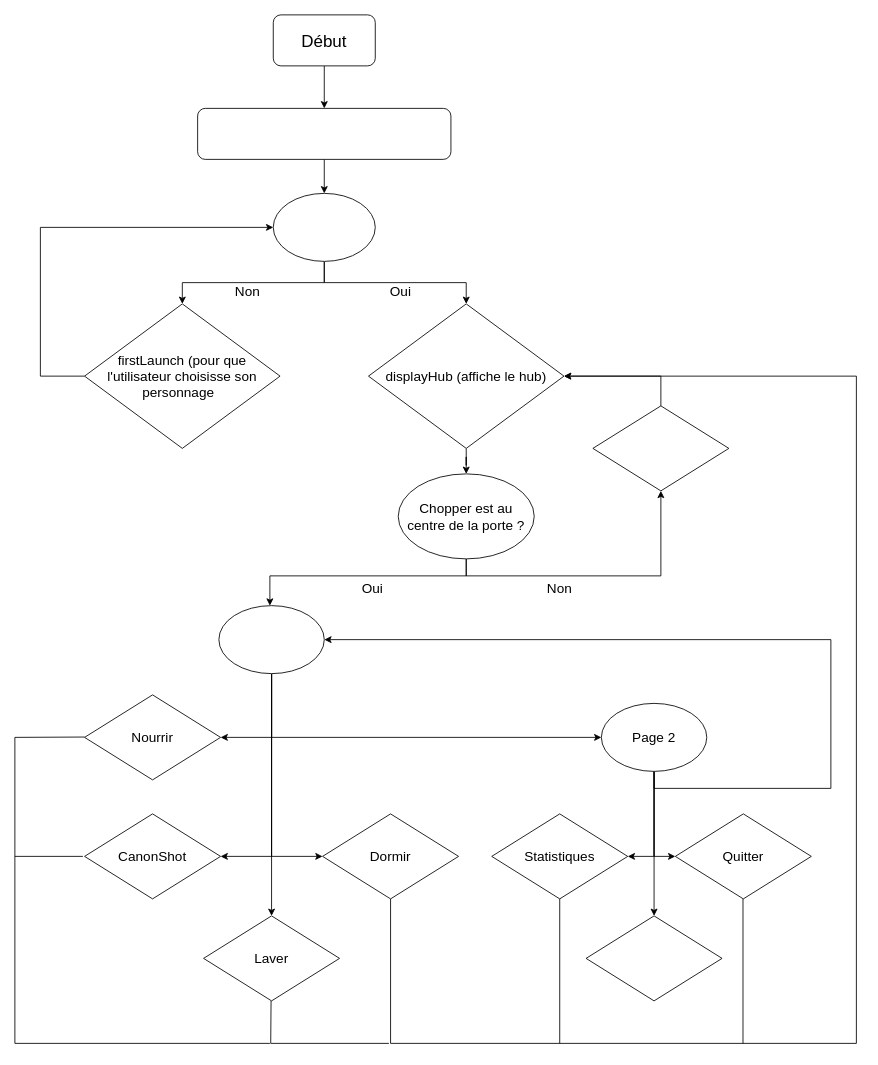
Some shapes in this 878 by 1065 pixel diagram are drawn without their labels. Each missing label, with the box of its shape:
Chopper sélectionné ?: (272, 193, 375, 261)
Déplacer Chopper: (592, 405, 729, 491)
Initialisation du matériel (boutons & écran) et charger les variables: (197, 108, 451, 159)
Page 1: (218, 605, 324, 674)
Réinitialiser: (585, 915, 722, 1001)
